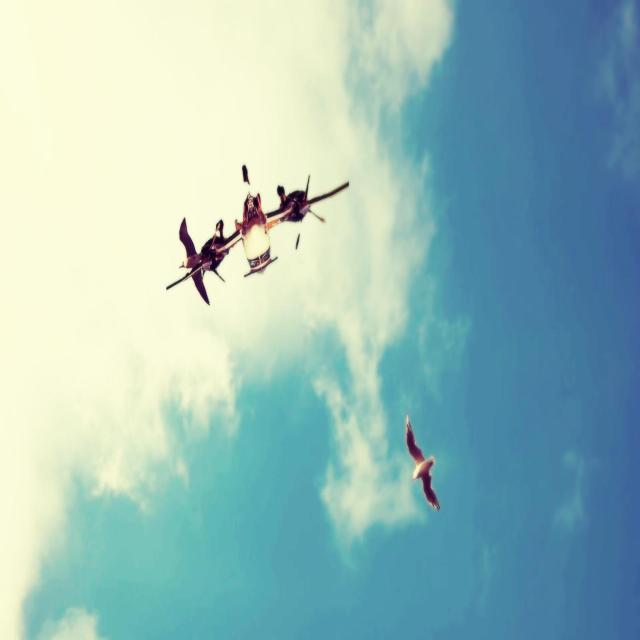airplane: (166, 163, 350, 305)
